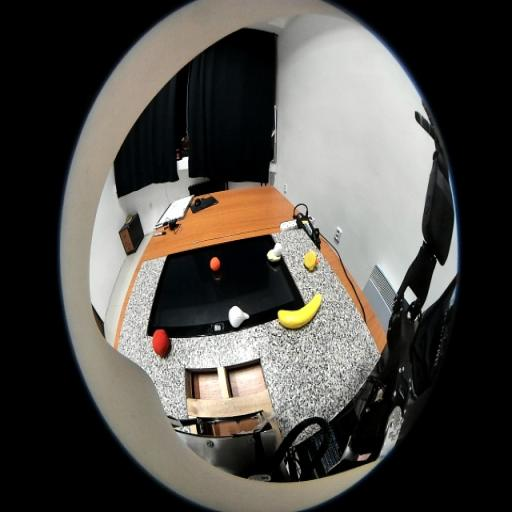Banana: (278, 293, 322, 329)
Duck: (303, 250, 319, 272)
Mushroom: (266, 242, 282, 262)
Onion: (228, 305, 250, 328)
Orange: (210, 256, 220, 272)
Tomato: (152, 328, 171, 356)
